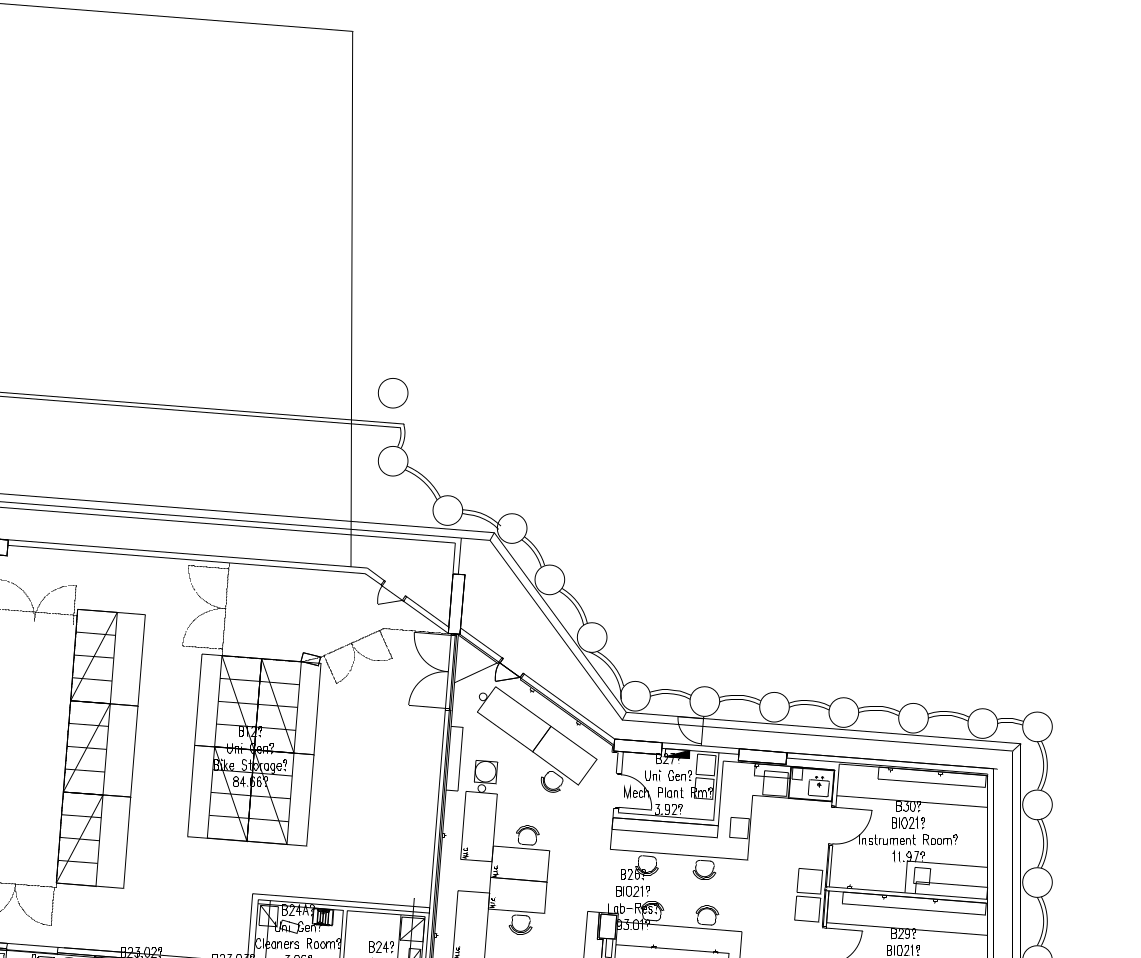door: (403, 625, 454, 716), (178, 562, 229, 653), (829, 800, 875, 852), (611, 765, 657, 814), (824, 917, 869, 958), (367, 577, 411, 615), (488, 657, 528, 687)
